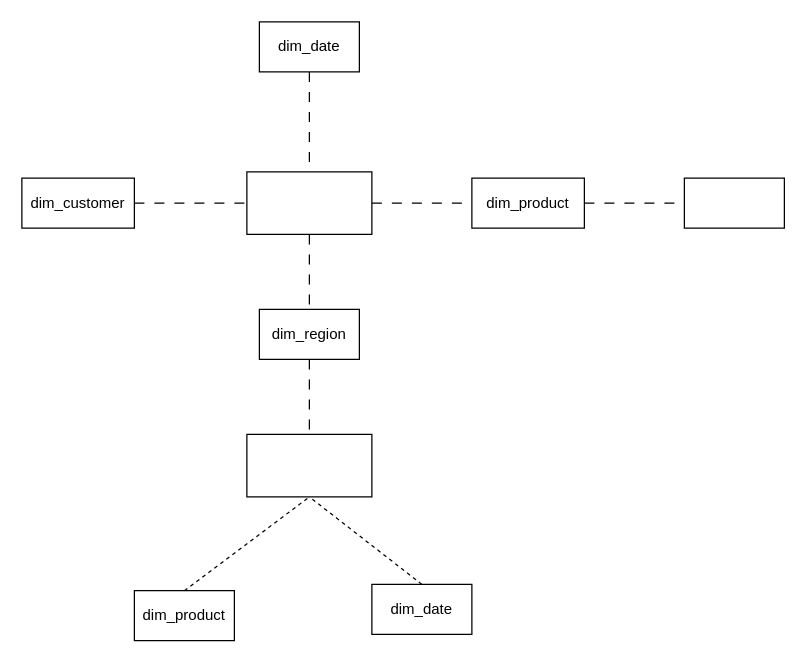
This 806x663 diagram has some shape labels left out. Each missing label, with the centre of its shape:
dim_supplier: (x=733, y=202)
fact_inventory: (x=309, y=465)
fact_order: (x=309, y=202)
